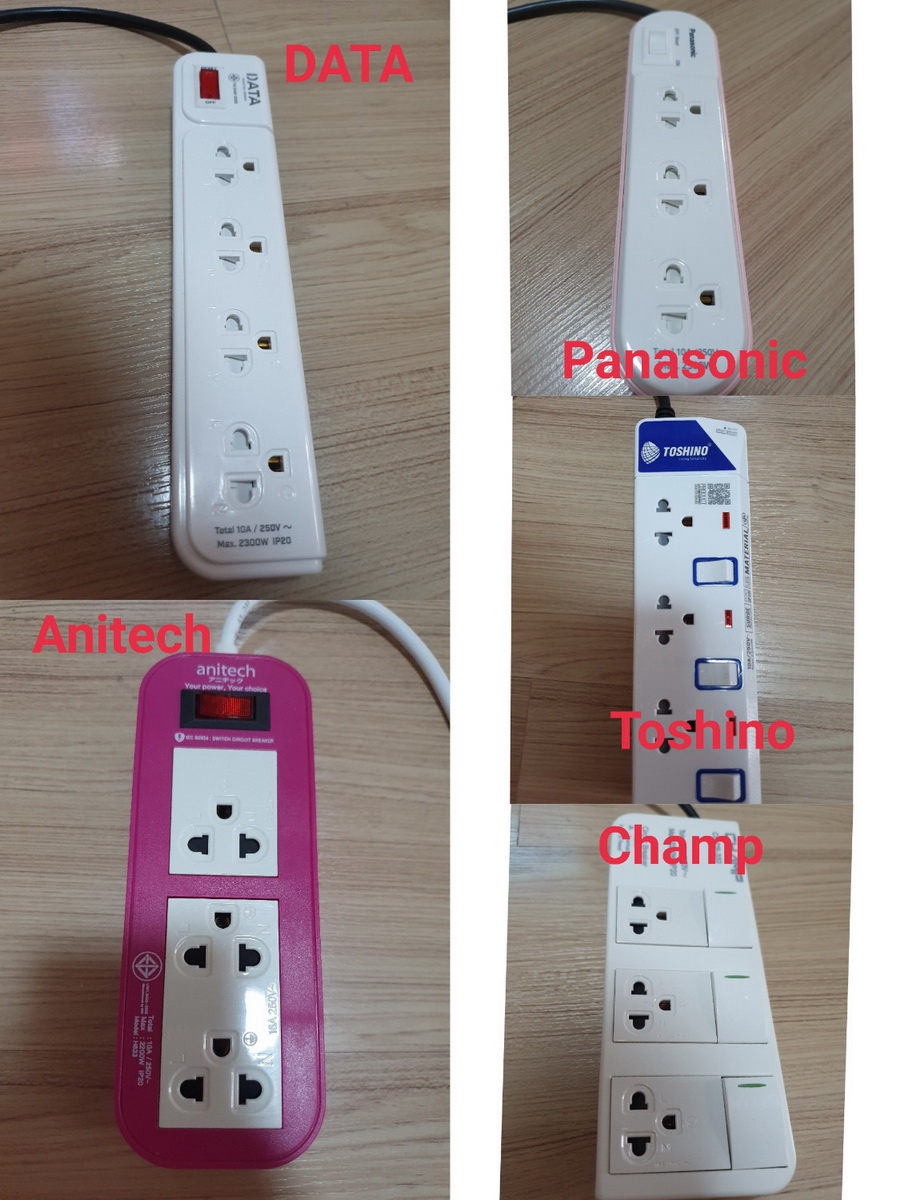Three_eye_plug: (103, 635, 345, 1186), (155, 35, 348, 591), (590, 813, 802, 1200), (594, 8, 770, 403), (621, 397, 770, 808)
